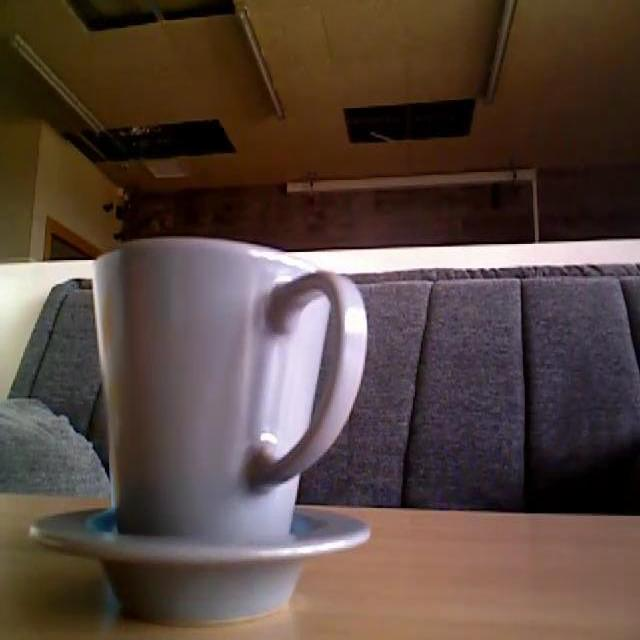cup: (49, 236, 376, 611)
